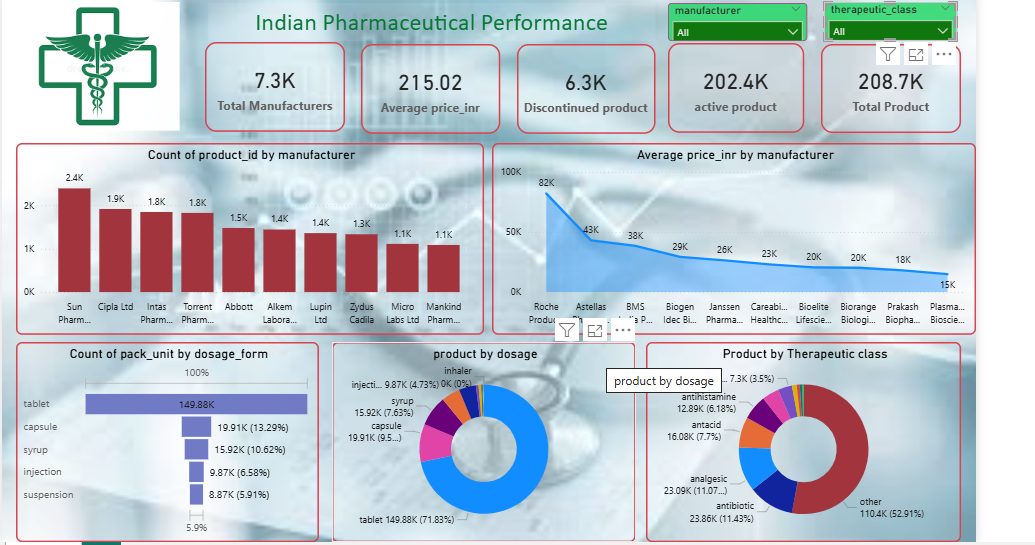

The dashboard page shown, as its layout file describes it:
{"tool":"powerbi","page":{"name":"Page 1","canvas":[1280,720],"ordinal":0},"visuals":[{"type":"card","fields":{"Values":["CountNonNull(indian_pharmaceutical_products_clean.product_id)"]},"box":[1076.3,66.1,184.4,117],"z":0},{"type":"card","fields":{"Values":["indian_pharmaceutical_products_clean.active product"]},"box":[875.4,64.7,178.9,118.4],"z":1000},{"type":"card","fields":{"Values":["indian_pharmaceutical_products_clean.Discontinued product"]},"box":[677.2,66.1,181.7,118.4],"z":2000},{"type":"card","fields":{"Values":["Avg(indian_pharmaceutical_products_clean.price_inr)"]},"box":[472.1,66.1,183.1,118.4],"z":3000},{"type":"card","fields":{"Values":["Count(indian_pharmaceutical_products_clean.manufacturer)"]},"box":[267,63.3,184.4,118.4],"z":4000},{"type":"donutChart","title":"Product by Therapeutic class","fields":{"Y":["CountNonNull(indian_pharmaceutical_products_clean.product_id)"],"Category":["indian_pharmaceutical_products_clean.therapeutic_class"]},"box":[846.5,456.9,414.3,262.9],"z":5000},{"type":"columnChart","fields":{"Y":["CountNonNull(indian_pharmaceutical_products_clean.product_id)"],"Category":["indian_pharmaceutical_products_clean.manufacturer"]},"box":[17.9,195.4,615.2,251.9],"z":6000},{"type":"areaChart","title":"Average price_inr by manufacturer","fields":{"Category":["indian_pharmaceutical_products_clean.manufacturer"],"Y":["Avg(indian_pharmaceutical_products_clean.price_inr)"]},"box":[644.1,195.4,635.9,251.9],"z":7000},{"type":"donutChart","title":"product by dosage","fields":{"Y":["CountNonNull(indian_pharmaceutical_products_clean.product_id)"],"Category":["indian_pharmaceutical_products_clean.dosage_form"]},"box":[433.5,456.9,399.1,262.9],"z":8000},{"type":"funnel","fields":{"Category":["indian_pharmaceutical_products_clean.dosage_form"],"Y":["CountNonNull(indian_pharmaceutical_products_clean.pack_unit)"]},"box":[17.9,456.9,397.8,262.9],"z":9000},{"type":"slicer","fields":{"Values":["indian_pharmaceutical_products_clean.therapeutic_class"]},"box":[1080.4,11,174.8,50.9],"z":9001},{"type":"slicer","fields":{"Values":["indian_pharmaceutical_products_clean.manufacturer"]},"box":[875.4,12.4,183.1,49.5],"z":9002},{"type":"image","box":[17.9,11,214.7,169.3],"z":9003},{"type":"textbox","box":[271.1,12.4,587.7,49.5],"z":9004}]}

Visuals, with their boxes in screenshot pixels (x1, y1, x2, y2):
card - CountNonNull(indian_pharmaceutical_products_clean.product_id): x1=832, y1=40, x2=975, y2=131
card - indian_pharmaceutical_products_clean.active product: x1=677, y1=39, x2=815, y2=131
card - indian_pharmaceutical_products_clean.Discontinued product: x1=524, y1=40, x2=664, y2=132
card - Avg(indian_pharmaceutical_products_clean.price_inr): x1=365, y1=40, x2=507, y2=132
card - Count(indian_pharmaceutical_products_clean.manufacturer): x1=206, y1=38, x2=349, y2=130
"Product by Therapeutic class" donutChart: x1=654, y1=342, x2=975, y2=544
columnChart - CountNonNull(indian_pharmaceutical_products_clean.product_id) x indian_pharmaceutical_products_clean.manufacturer: x1=14, y1=140, x2=489, y2=335
"Average price_inr by manufacturer" areaChart: x1=498, y1=140, x2=990, y2=335
"product by dosage" donutChart: x1=335, y1=342, x2=644, y2=544
funnel - indian_pharmaceutical_products_clean.dosage_form x CountNonNull(indian_pharmaceutical_products_clean.pack_unit): x1=14, y1=342, x2=321, y2=544
slicer - indian_pharmaceutical_products_clean.therapeutic_class: x1=835, y1=0, x2=970, y2=37
slicer - indian_pharmaceutical_products_clean.manufacturer: x1=677, y1=0, x2=818, y2=37
image: x1=14, y1=0, x2=180, y2=129
textbox: x1=210, y1=0, x2=664, y2=37
